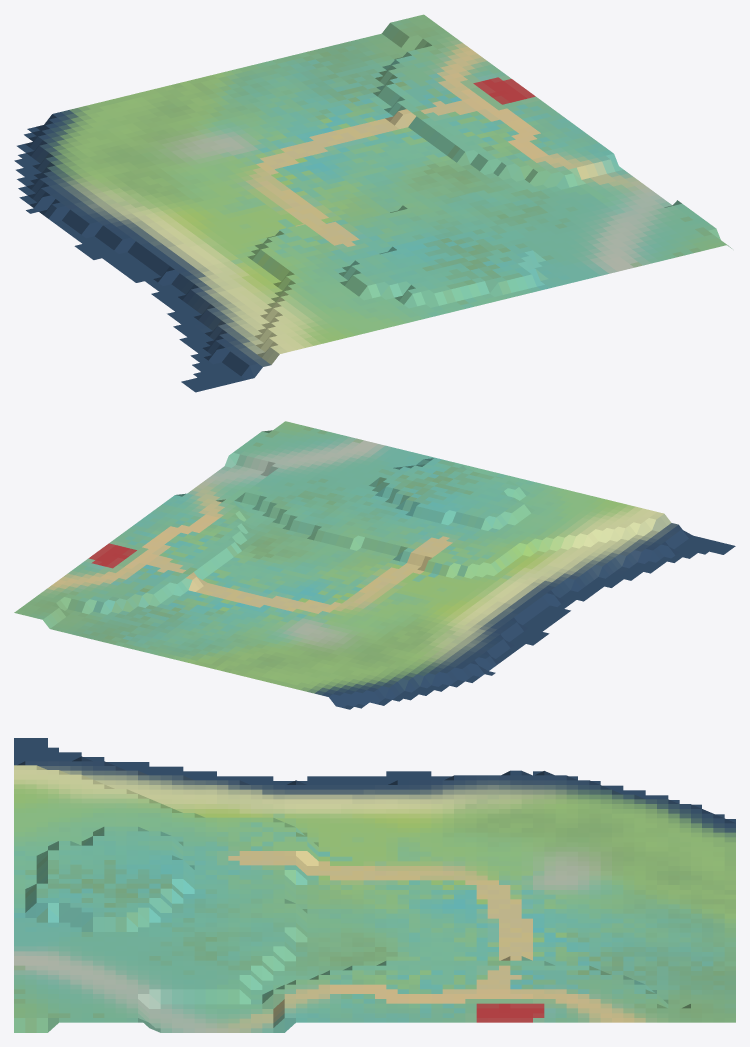
Rendered from test chunk 11.glb.
3 renders of one model, top to bottom at view 1: azimuth 30°, elevation 25°; view 2: azimuth 150°, elevation 25°; view 3: azimuth 270°, elevation 25°, orthographic. The views are drawn at different scales.
Visible parts, largest first — view 1: Chunk 11; view 2: Chunk 11; view 3: Chunk 11.
Part boxes in pixels (x1=…): Chunk 11: x1=14, y1=14, x2=731, y2=392; Chunk 11: x1=14, y1=421, x2=735, y2=709; Chunk 11: x1=14, y1=738, x2=735, y2=1032.
Size of the model in its own units: 64 by 3 by 64.
1 material, 1 textured.
